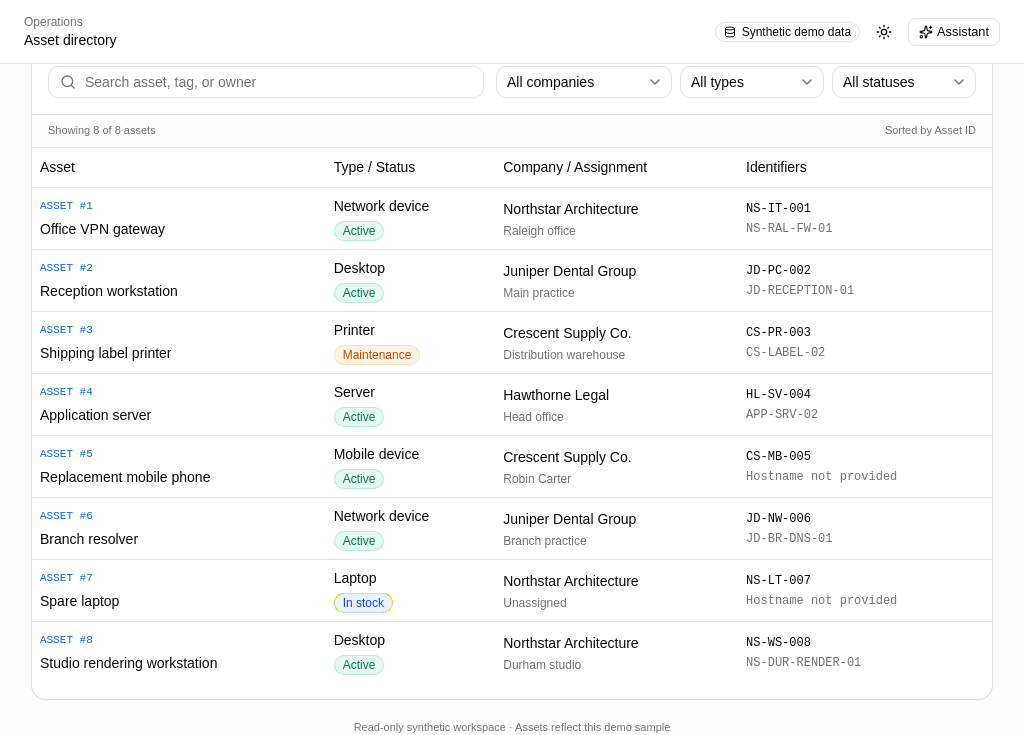
Test: asset routes › navigates directory to Asset Detail and back
The image size is (1024, 735).
(page scrolled)
Click the link with aria-label "Open asset #8: Studio rendering workstation".
click(129, 662)  # box [40, 652, 217, 672]
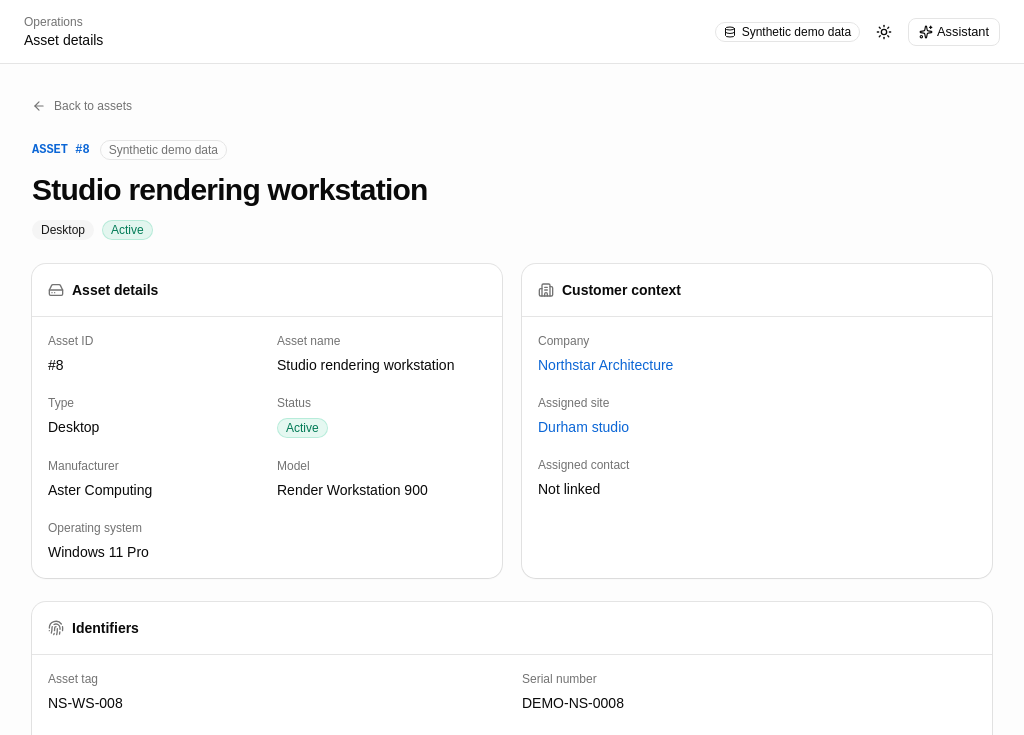
Result: the heading "Studio rendering workstation" is shown at [32, 173, 428, 206]
Click the link "Back to assets".
click(82, 106)  # box [32, 98, 132, 114]
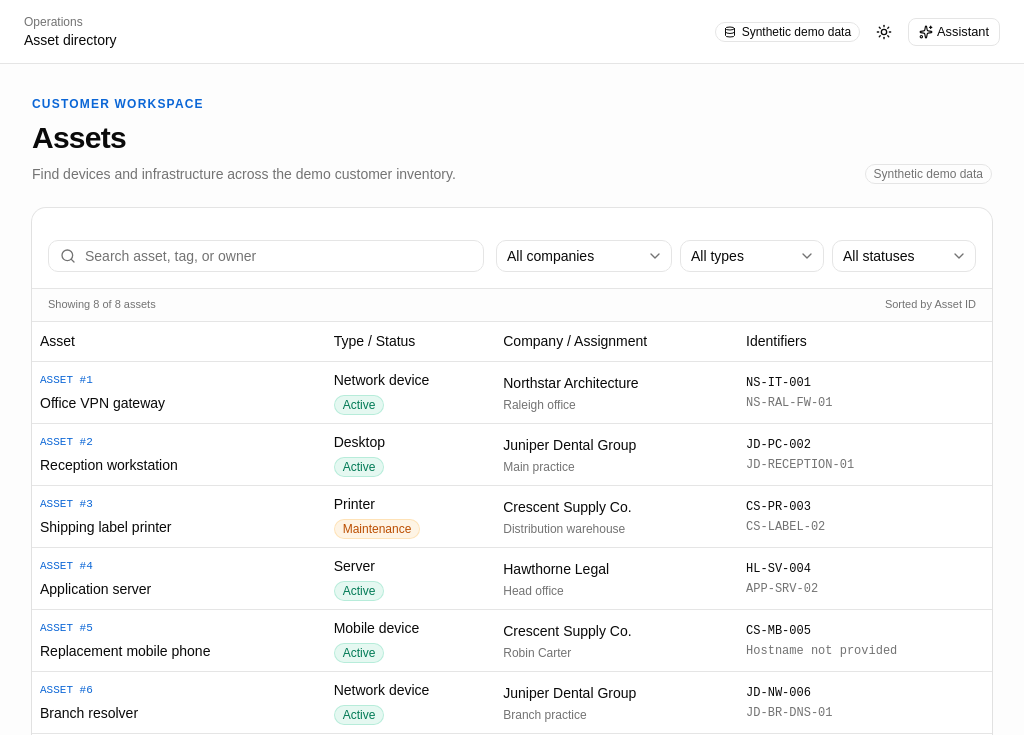
Result: the heading "Assets" is shown at [32, 121, 126, 154]
